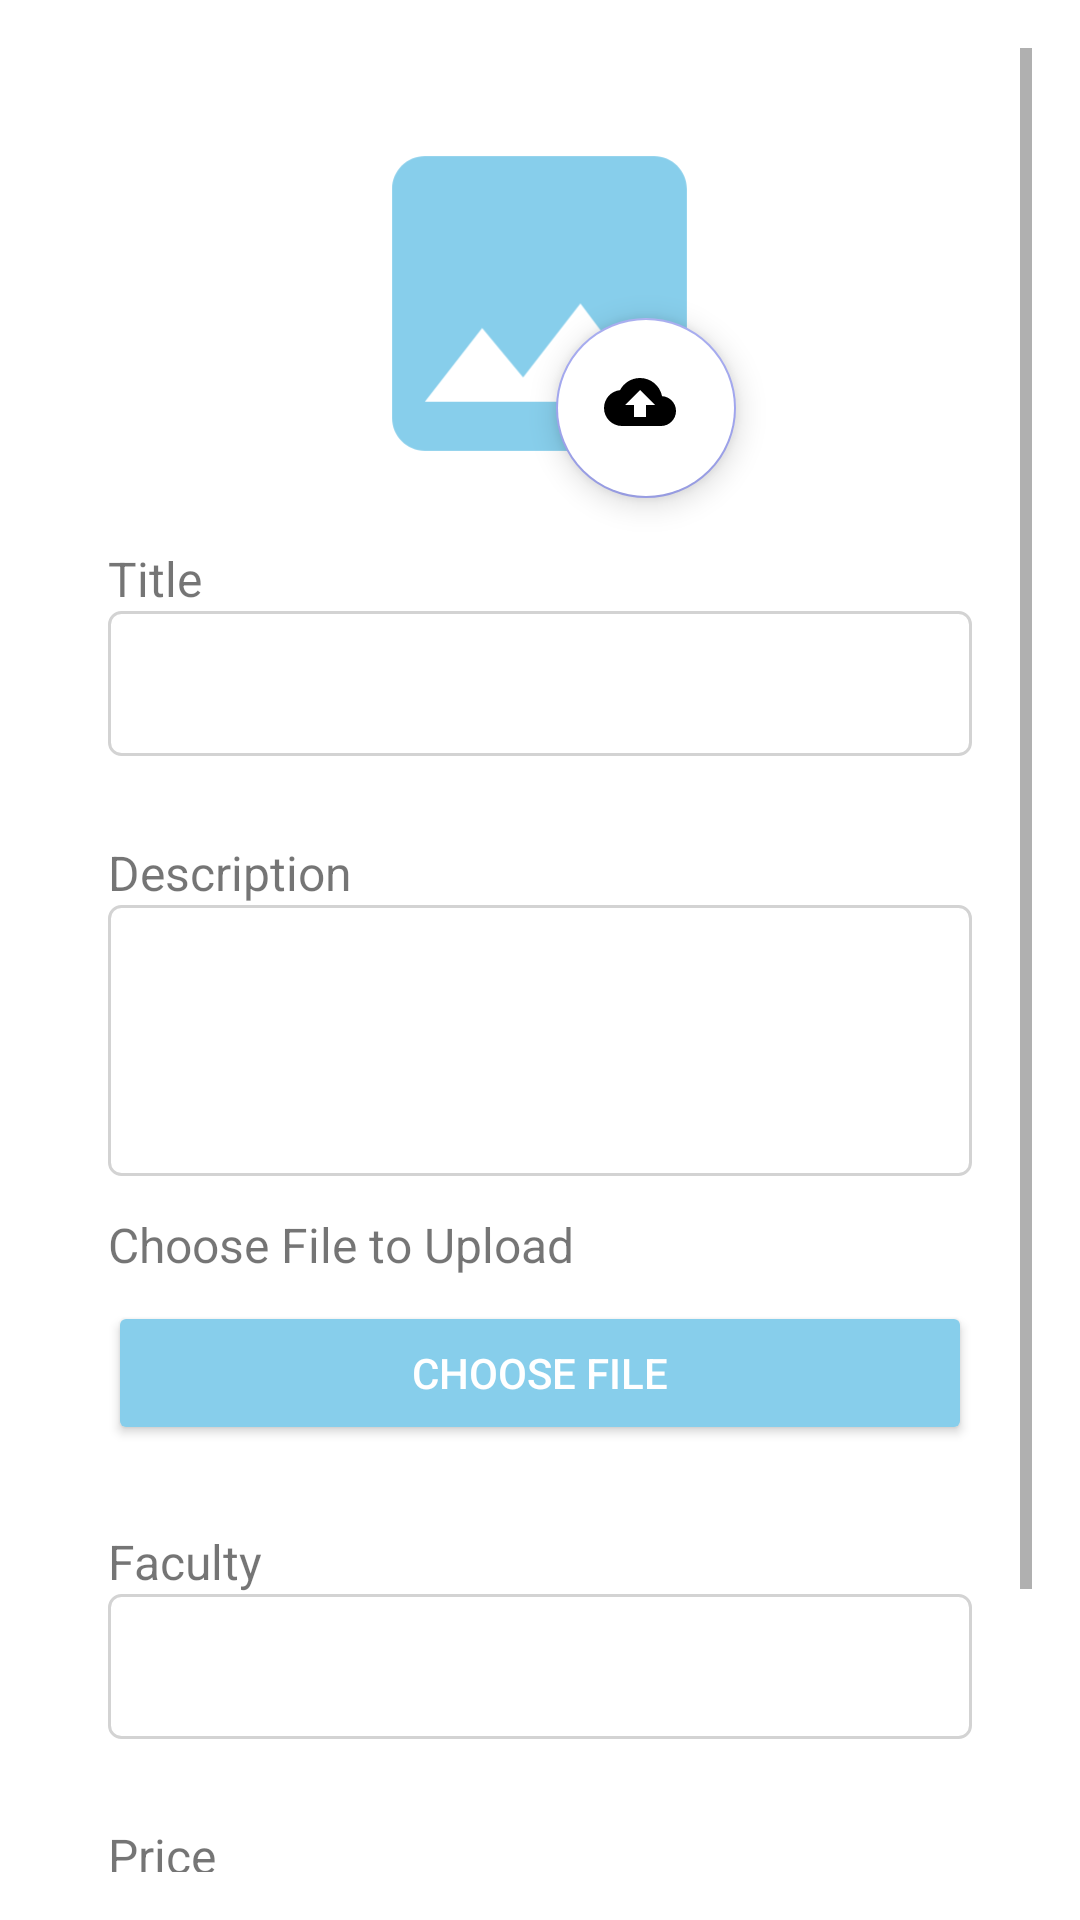

Screen size 1080px x 1920px. Icon name, then its box in pixels as (x1, y1, x2, y2):
cloud upload: (556, 318, 736, 498)
